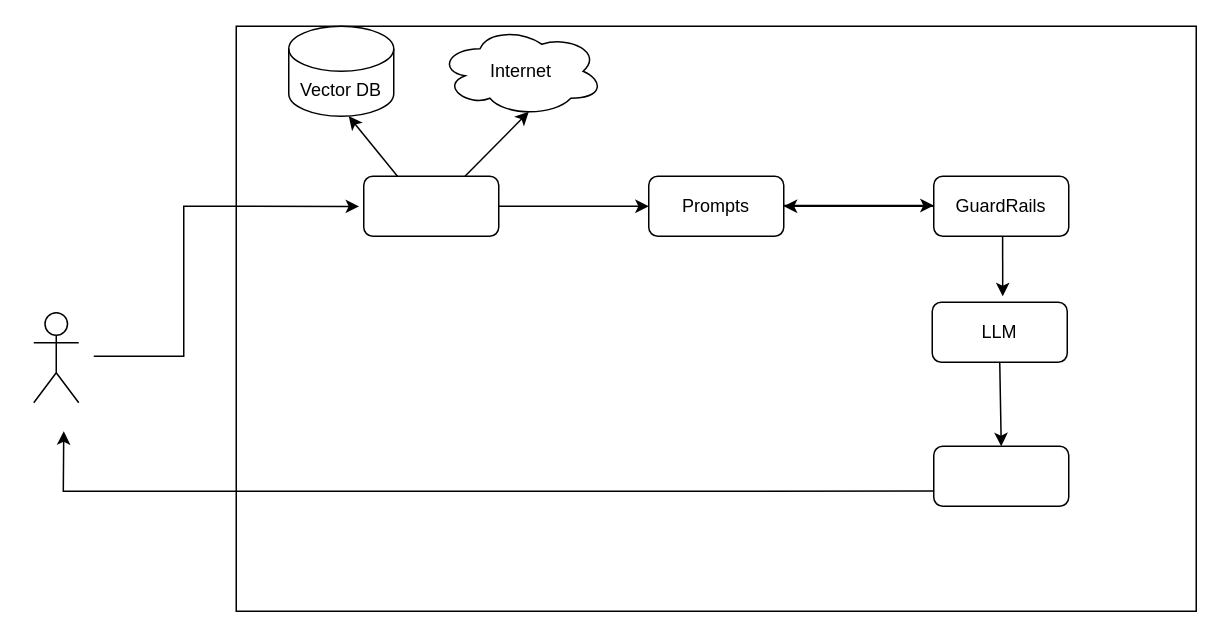
Image size: 1223x638. Some labels were removed from this diagram. Here are the shapes that lost their labels. From the top down, the centre of each, then its label:
At point 430,205: "RAG".
At point 55,357: "Student".
At point 1000,475: "Output GuardRails".
